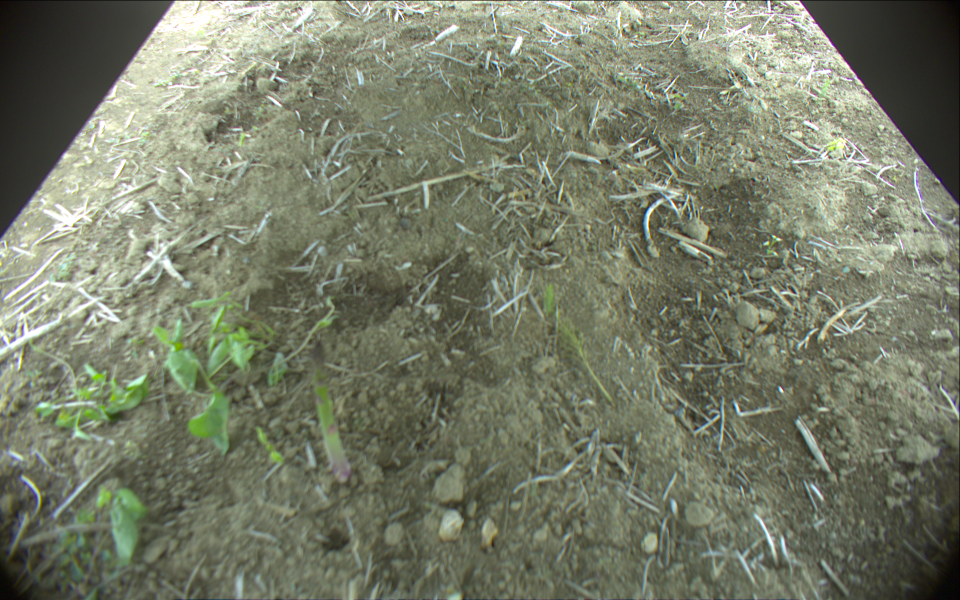aspa: (309, 340, 349, 482)
